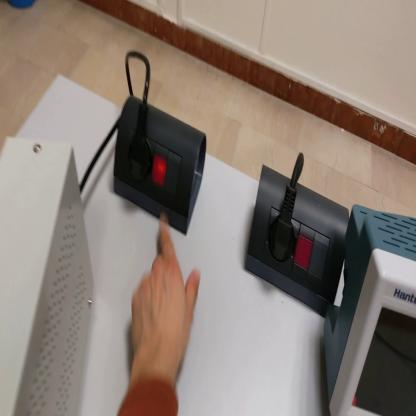hand: (128, 211, 201, 375)
oscilloscope: (322, 205, 416, 414)
power supply: (1, 137, 97, 415)
socket: (245, 164, 351, 316), (112, 92, 207, 232)
